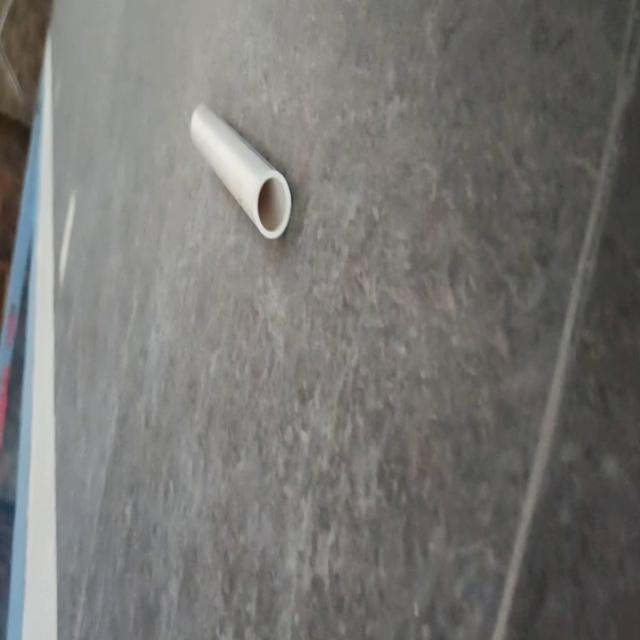Cube: (189, 100, 293, 241)
